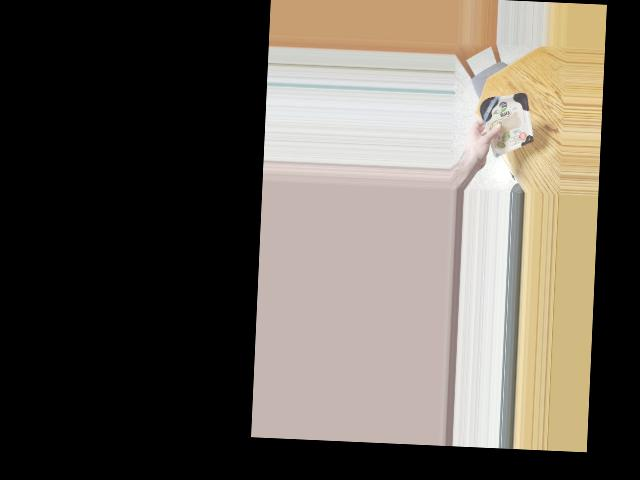cheese: (479, 92, 534, 148)
